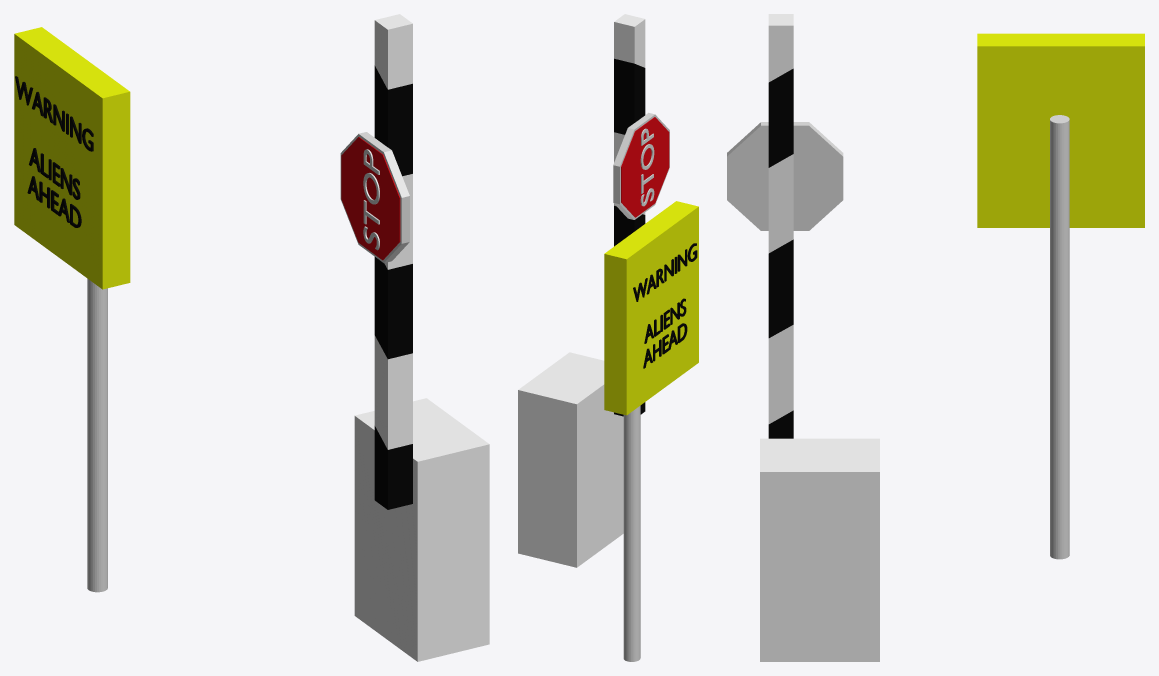
File: Warning_Sign.fbx
The picture shows the model from 3 angles, left to right: view 1: azimuth 30°, elevation 25°; view 2: azimuth 150°, elevation 25°; view 3: azimuth 270°, elevation 25°; orthographic projection. The views are drawn at different scales.
Visible parts, largest first — view 1: Cube, Cube.002, Cube.001, Cylinder, Circle.001, Text.001, Circle, Text; view 2: Cube, Cube.002, Cylinder, Cube.001, Circle.001, Text.001, Circle, Text; view 3: Cube.002, Cube, Cube.001, Cylinder, Circle.
Boxes of the visible parts, left/top/right/bottom form: Cube: left=354, top=398, right=489, bottom=661; Cube.002: left=14, top=27, right=130, bottom=289; Cube.001: left=374, top=14, right=412, bottom=509; Cylinder: left=87, top=278, right=107, bottom=592; Circle.001: left=341, top=137, right=400, bottom=260; Text.001: left=15, top=76, right=93, bottom=227; Circle: left=340, top=132, right=409, bottom=262; Text: left=363, top=149, right=379, bottom=250; Cube: left=518, top=352, right=623, bottom=567; Cube.002: left=604, top=201, right=698, bottom=415; Cylinder: left=623, top=405, right=640, bottom=661; Cube.001: left=614, top=14, right=645, bottom=416; Circle.001: left=621, top=117, right=669, bottom=217; Text.001: left=633, top=243, right=697, bottom=368; Circle: left=613, top=112, right=669, bottom=219; Text: left=640, top=128, right=654, bottom=206; Cube.002: left=977, top=33, right=1144, bottom=227; Cube: left=760, top=438, right=879, bottom=661; Cube.001: left=768, top=14, right=793, bottom=438; Cylinder: left=1050, top=115, right=1069, bottom=559; Circle: left=727, top=122, right=843, bottom=230.
Size of the model in its own units: 507 by 1114 by 698.
